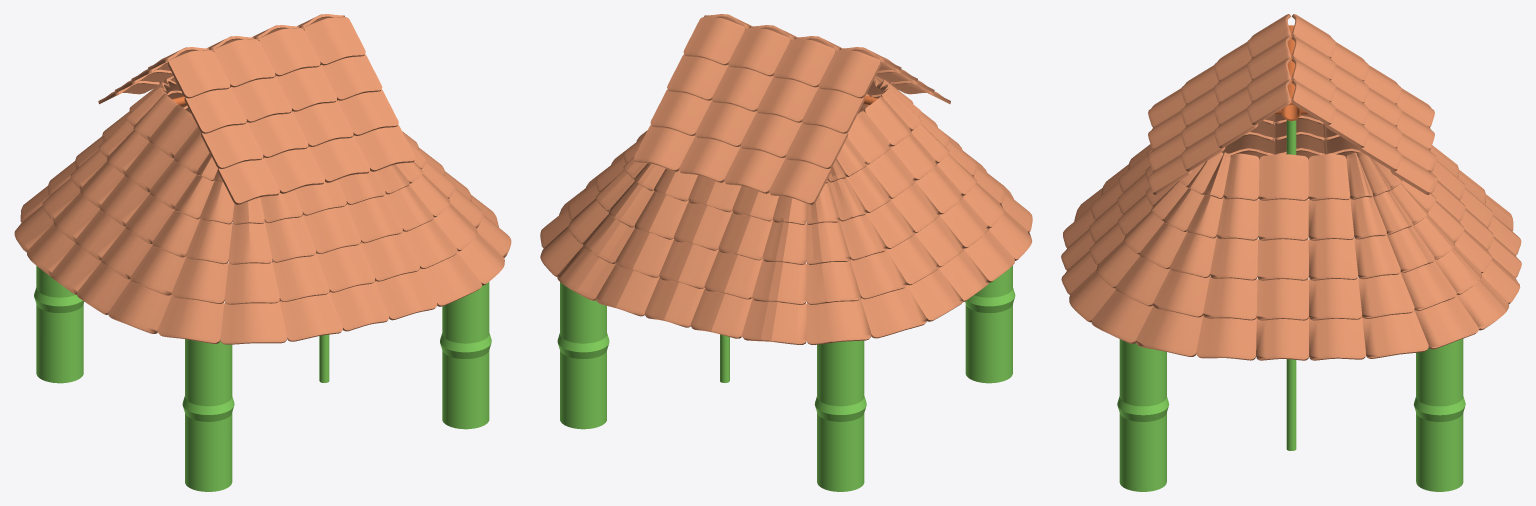
File: Hut2.fbx
3 views of the same model, side by side, from view 1: azimuth 30°, elevation 25°; view 2: azimuth 150°, elevation 25°; view 3: azimuth 270°, elevation 25° (orthographic).
Parts seen in each view (by area): view 1: Base, Roof, BaseSupport; view 2: Base, Roof, BaseSupport; view 3: Base, Roof, BaseSupport, RoofSupport, RoofConnector.
Boxes of the visible parts, <box> form: Base: <box>14,79,511,344</box>; Roof: <box>98,14,415,204</box>; BaseSupport: <box>34,266,491,491</box>; Base: <box>540,77,1032,344</box>; Roof: <box>634,14,950,204</box>; BaseSupport: <box>557,265,1015,491</box>; Base: <box>1061,114,1521,360</box>; Roof: <box>1148,14,1434,194</box>; BaseSupport: <box>1117,339,1465,491</box>; RoofSupport: <box>1286,120,1296,450</box>; RoofConnector: <box>1281,25,1301,120</box>.
Size of the model in its own units: 1950 by 1700 by 1950.
